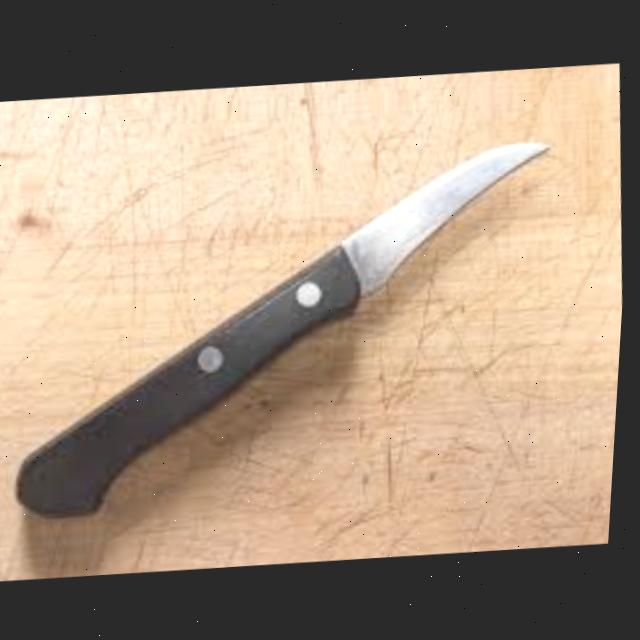Knife: (0, 133, 578, 523)
